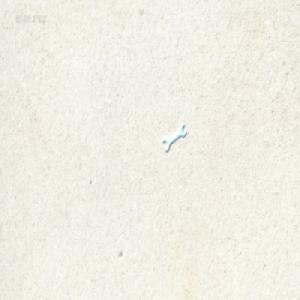Wrench: (162, 125, 187, 154)
